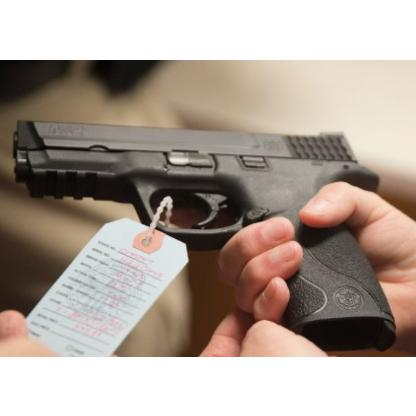gun: (10, 114, 396, 346)
